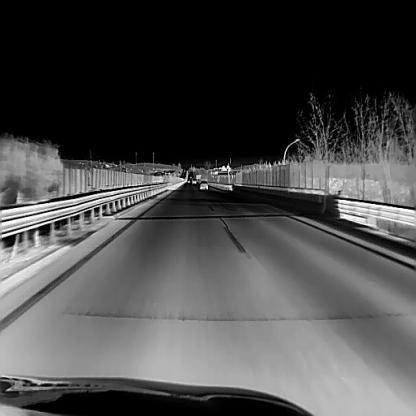car: (191, 175, 196, 183)
truck: (198, 178, 208, 188)
